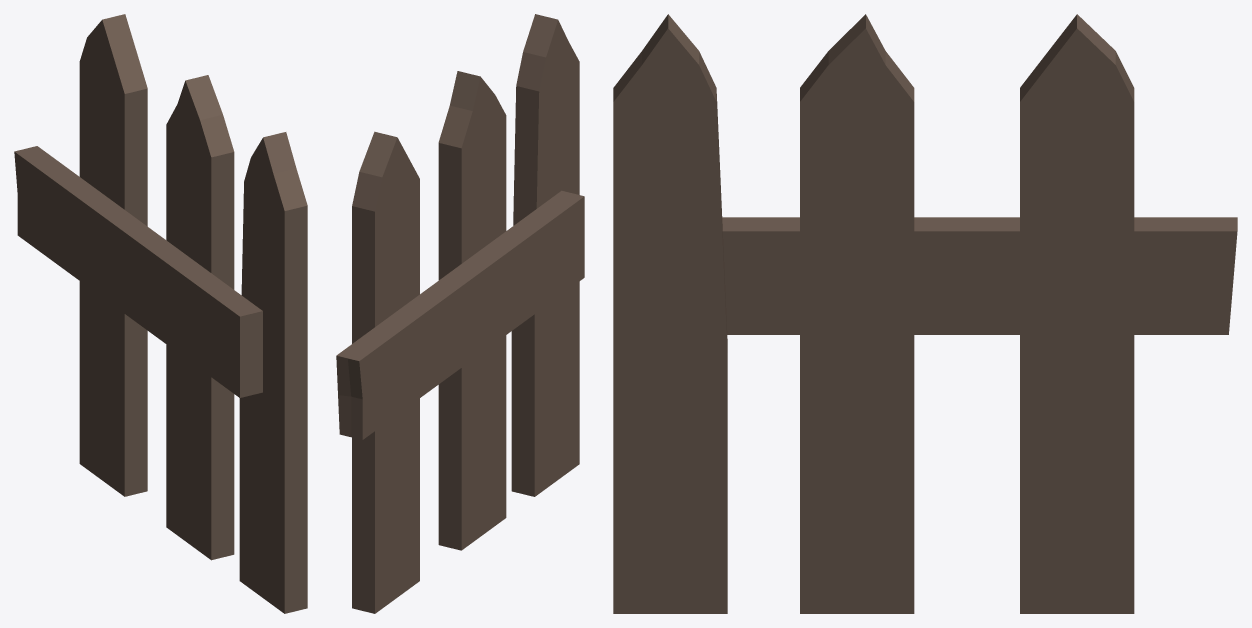
Rendered from Fence.fbx.
The picture shows the model from 3 angles, left to right: view 1: azimuth 30°, elevation 25°; view 2: azimuth 150°, elevation 25°; view 3: azimuth 270°, elevation 25°; orthographic projection. The views are drawn at different scales.
Parts seen in each view (by area): view 1: Cube.001, Cube.003, Cube.002, Cube; view 2: Cube.003, Cube, Cube.002, Cube.001; view 3: Cube.002, Cube, Cube.001, Cube.003.
Part boxes in pixels (left/top/right/bottom): Cube.001: left=239, top=132, right=307, bottom=613; Cube.003: left=14, top=146, right=262, bottom=397; Cube.002: left=79, top=14, right=147, bottom=496; Cube: left=166, top=75, right=234, bottom=560; Cube.003: left=336, top=190, right=584, bottom=439; Cube: left=438, top=71, right=506, bottom=550; Cube.002: left=352, top=131, right=419, bottom=613; Cube.001: left=511, top=14, right=579, bottom=496; Cube.002: left=1020, top=14, right=1134, bottom=613; Cube: left=800, top=14, right=914, bottom=613; Cube.001: left=613, top=14, right=727, bottom=613; Cube.003: left=722, top=217, right=1237, bottom=334.
Size of the model in its own units: 65.98 by 607 by 586.
